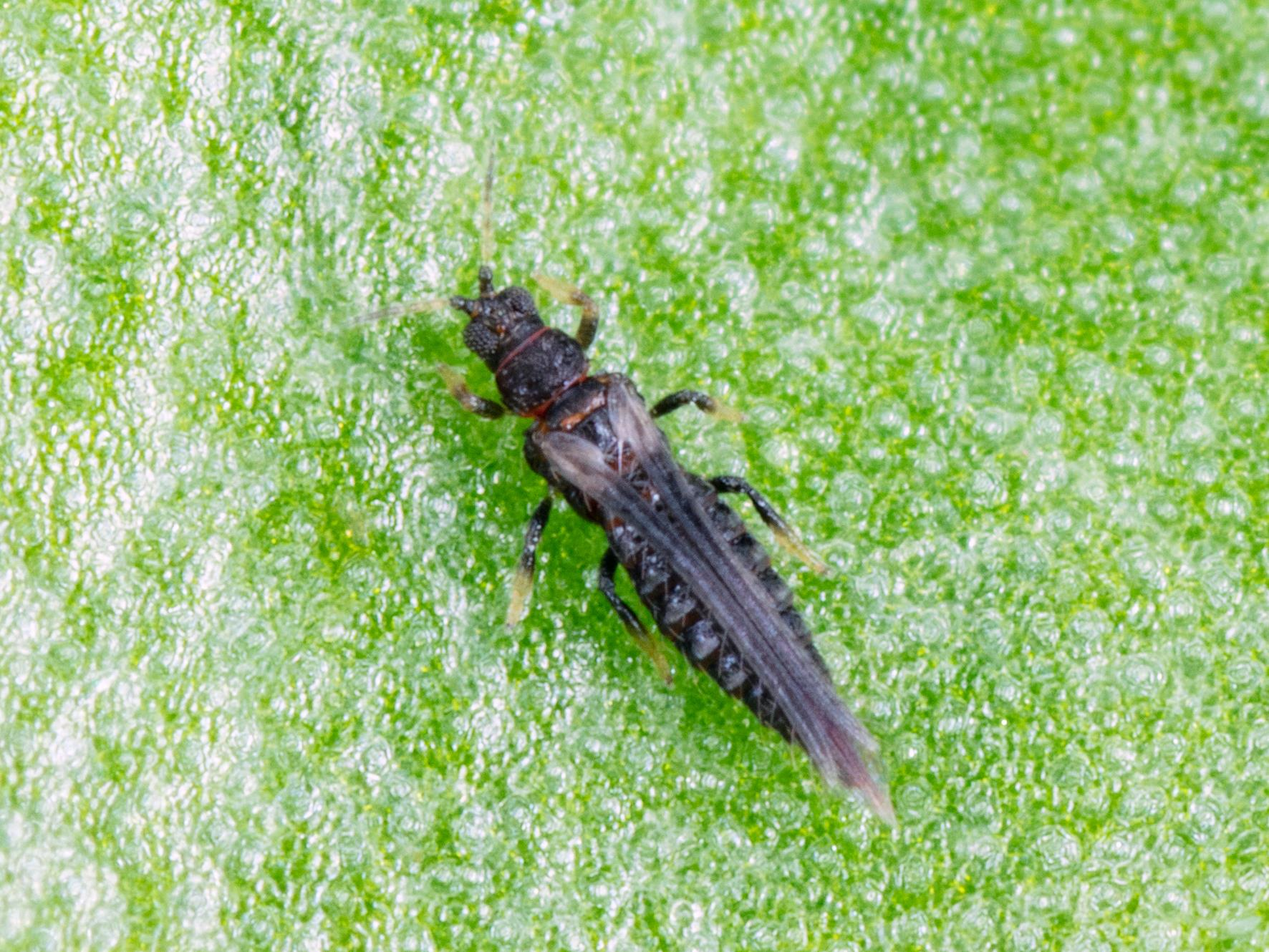Thripidae: (333, 142, 899, 833)
